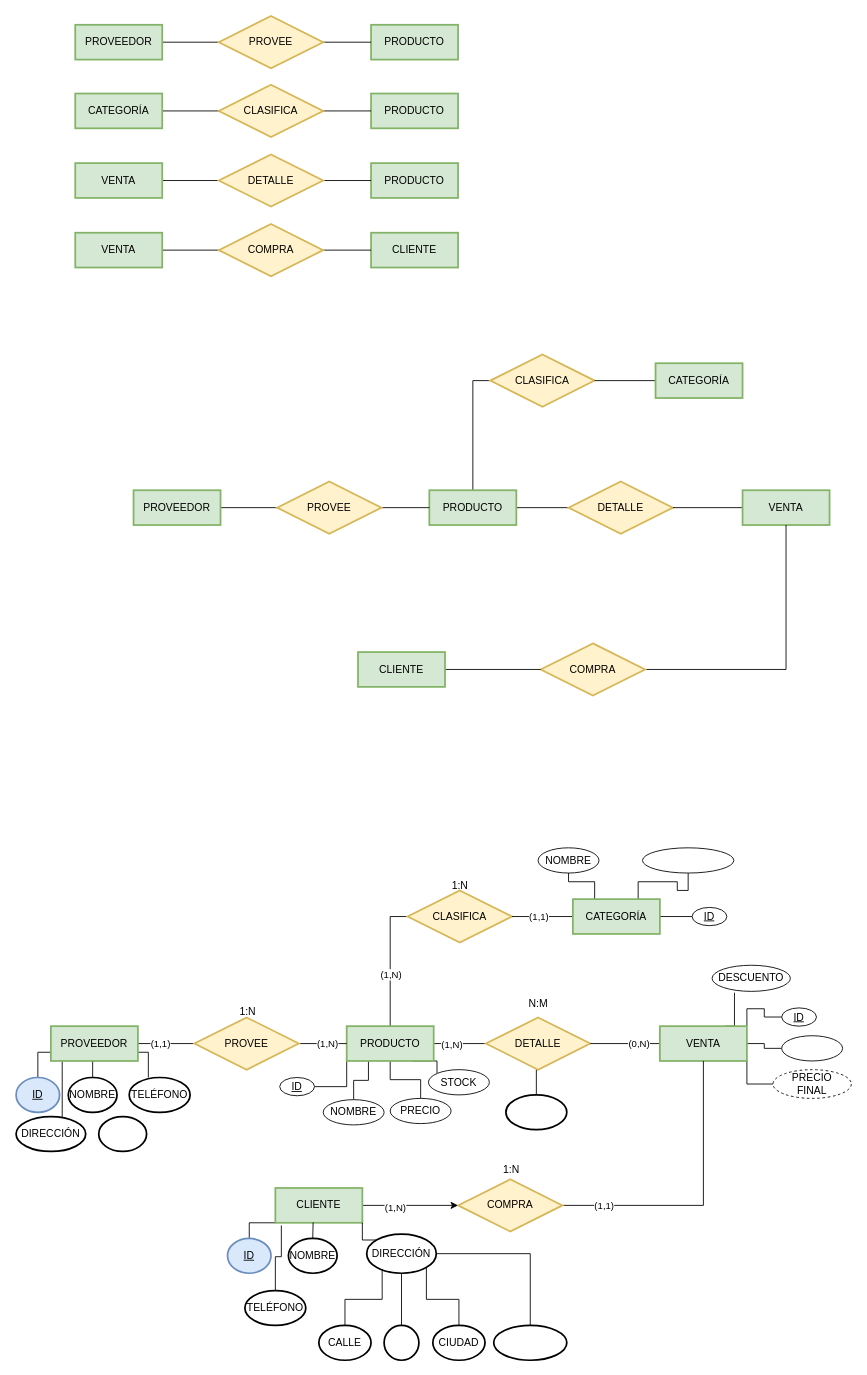
The diagram is 867 pixels wide and 1375 high, and some of its shapes have lost their labels. The shapes that lost their labels are listed below. From the top down, each one's centre as x and y in pixels, then its label:
At (x=688, y=860): "DESCRIPCIÓN".
At (x=812, y=1048): "FECHA".
At (x=536, y=1112): "CANTIDAD".
At (x=122, y=1133): "WEB".
At (x=401, y=1342): "Nº".
At (x=529, y=1342): "PROVINCIA".
